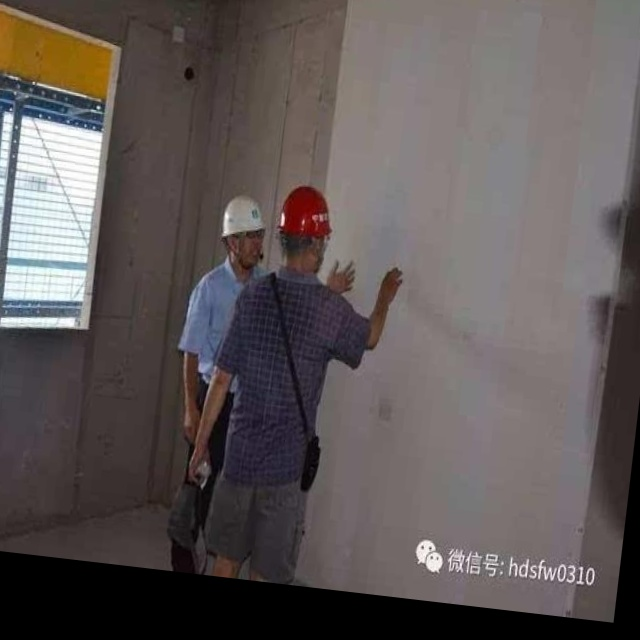Con_Casco: (273, 183, 337, 271), (216, 193, 272, 272)
